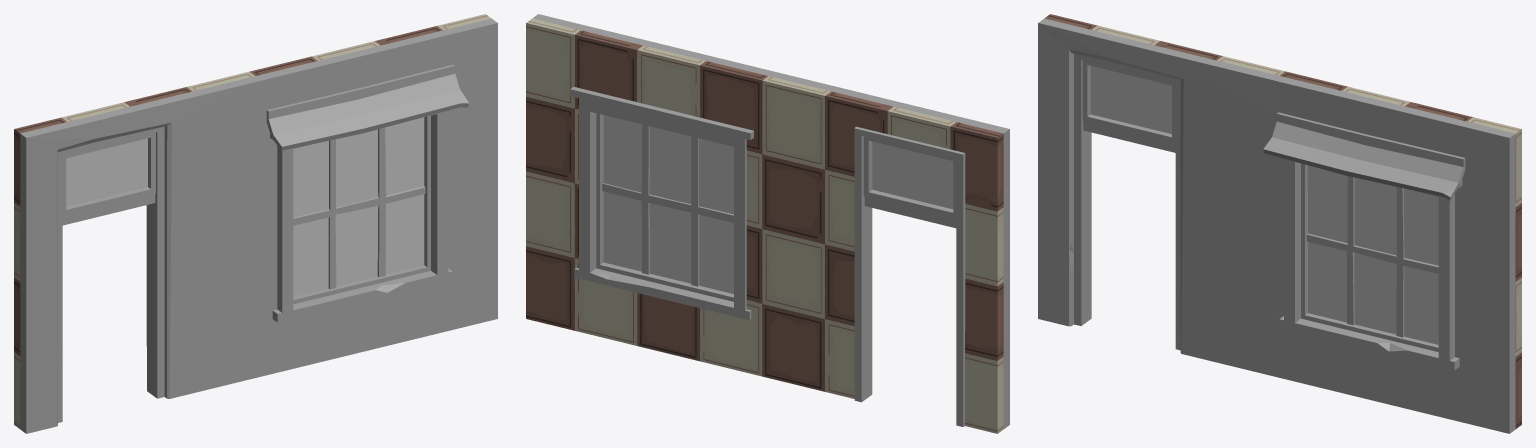
Rendered from SM_Bld_ShopFront_09.fbx.
The picture shows the model from 3 angles, left to right: view 1: azimuth 30°, elevation 25°; view 2: azimuth 150°, elevation 25°; view 3: azimuth 330°, elevation 25°; orthographic projection.
Parts seen in each view (by area): view 1: SM_Bld_ShopFront_09, SM_Bld_ShopFront_09_Glass; view 2: SM_Bld_ShopFront_09, SM_Bld_ShopFront_09_Glass; view 3: SM_Bld_ShopFront_09, SM_Bld_ShopFront_09_Glass.
Boxes of the visible parts, x1=… form: SM_Bld_ShopFront_09: x1=14, y1=14, x2=497, y2=433; SM_Bld_ShopFront_09_Glass: x1=66, y1=117, x2=424, y2=296; SM_Bld_ShopFront_09: x1=526, y1=14, x2=1009, y2=433; SM_Bld_ShopFront_09_Glass: x1=603, y1=115, x2=953, y2=293; SM_Bld_ShopFront_09: x1=1038, y1=14, x2=1521, y2=433; SM_Bld_ShopFront_09_Glass: x1=1090, y1=66, x2=1438, y2=344.
Bounding box in the file's own units: 500 × 300 × 56.99.
